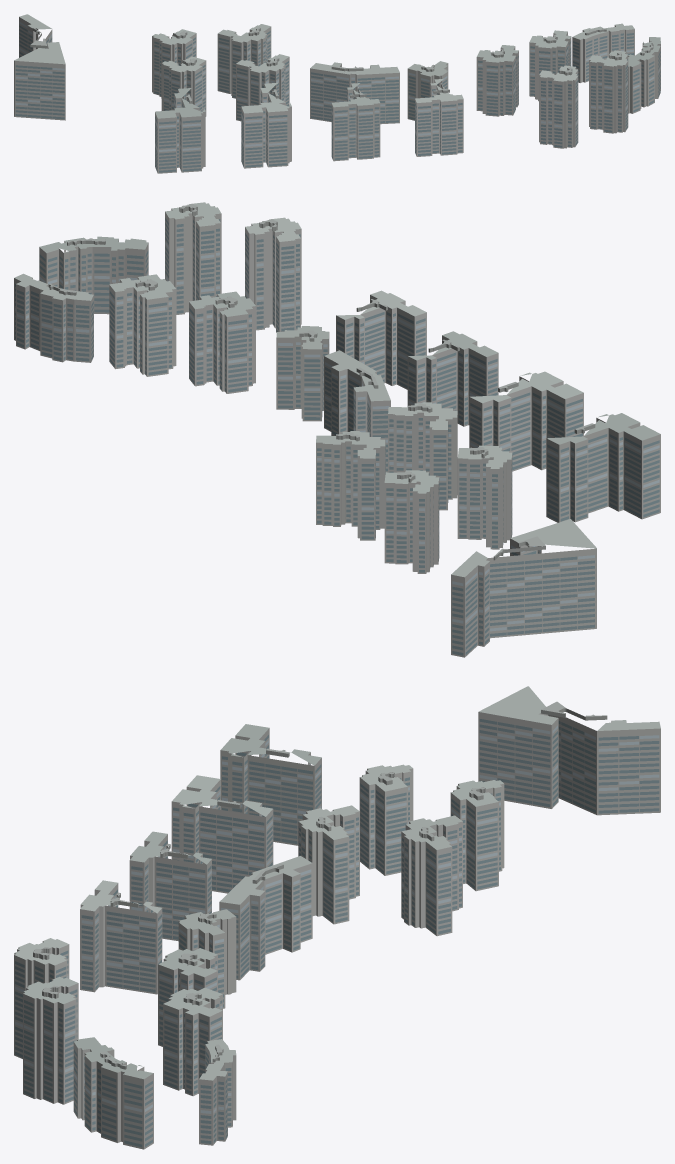
The model's file is apt-a15213007.glb.
The picture shows the model from 3 angles, top to bottom: view 1: azimuth 30°, elevation 25°; view 2: azimuth 150°, elevation 25°; view 3: azimuth 270°, elevation 25°; orthographic projection. The views are drawn at different scales.
Visible parts, largest first — view 1: apt-a15213007; view 2: apt-a15213007; view 3: apt-a15213007.
Part boxes in pixels (<box>): apt-a15213007: <box>14,14,660,173</box>; apt-a15213007: <box>14,202,660,657</box>; apt-a15213007: <box>14,686,660,1149</box>.
Bounding box in the file's own units: 441 × 57 × 318.
